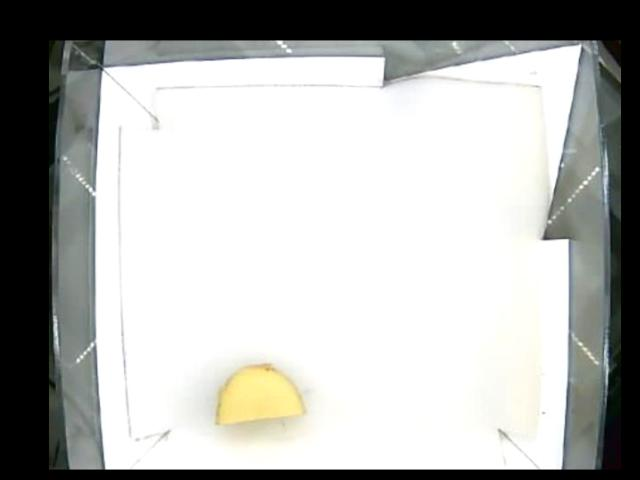Potato: (214, 362, 303, 429)
